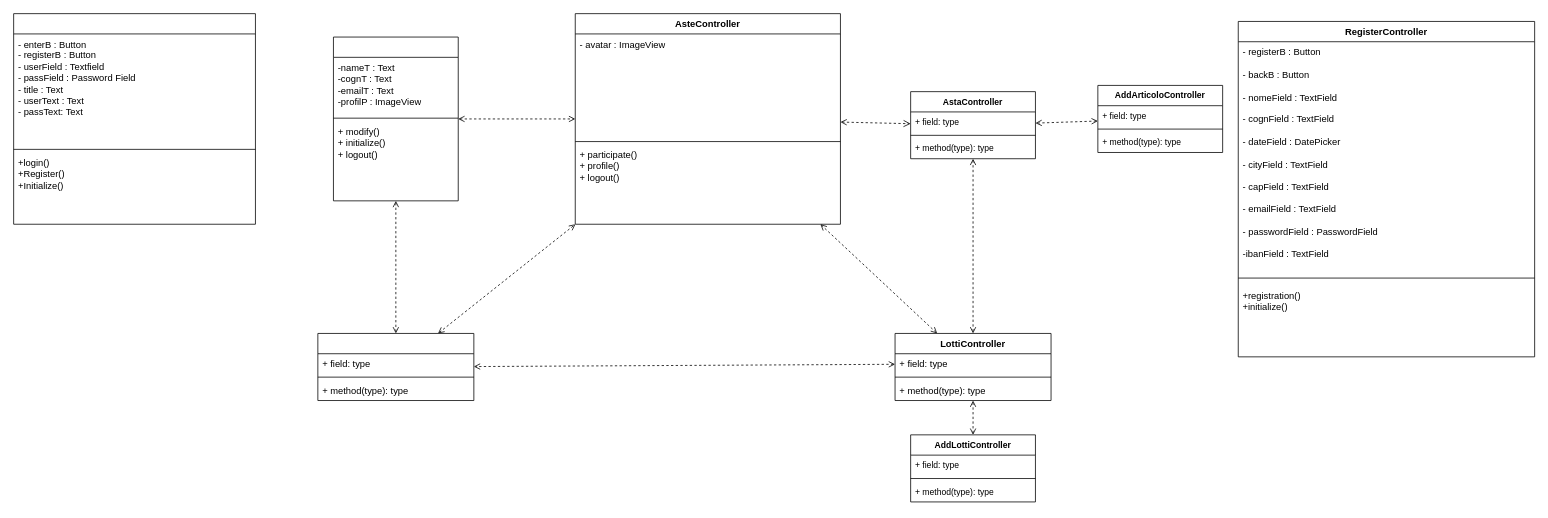
The diagram is 1548 pixels wide and 518 high, and some of its shapes have lost their labels. The box of each missing label's shape, as (x1, y1, x2, y2) in pixels:
ArticoloController: (317, 333, 474, 401)
LoginController: (13, 13, 255, 224)
ProfileController: (333, 36, 458, 201)
